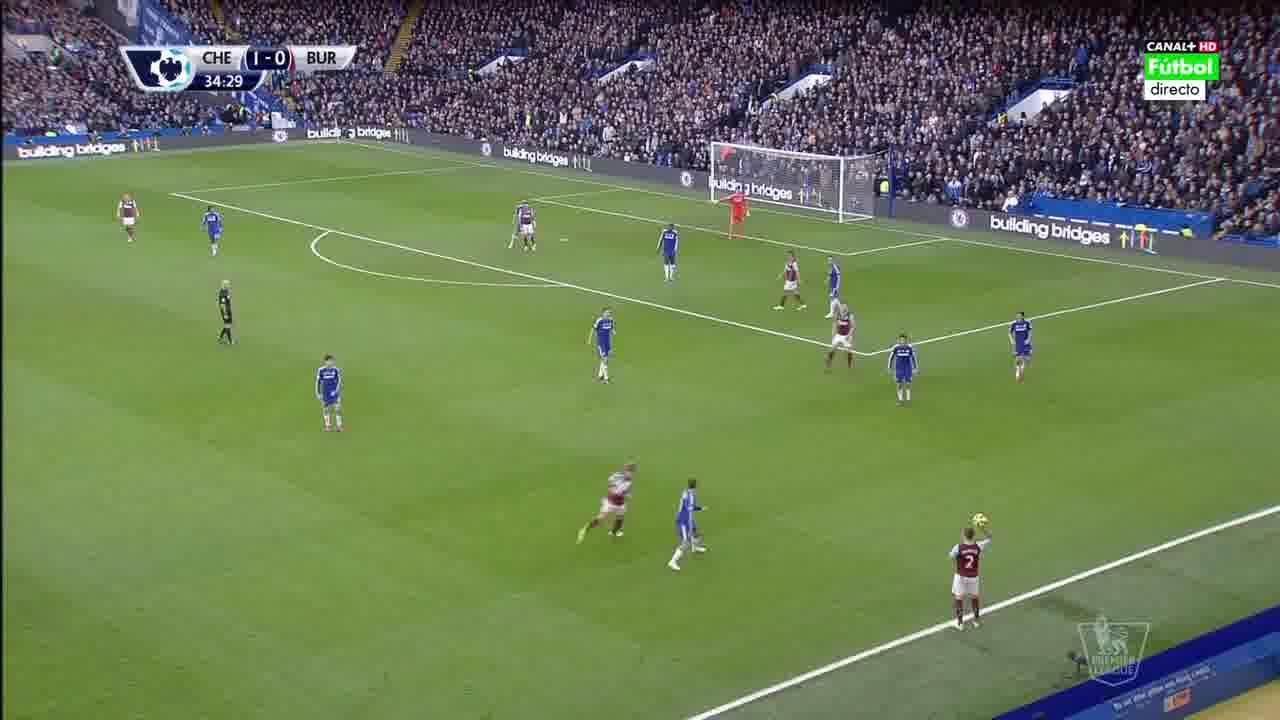football: (972, 513, 990, 529)
